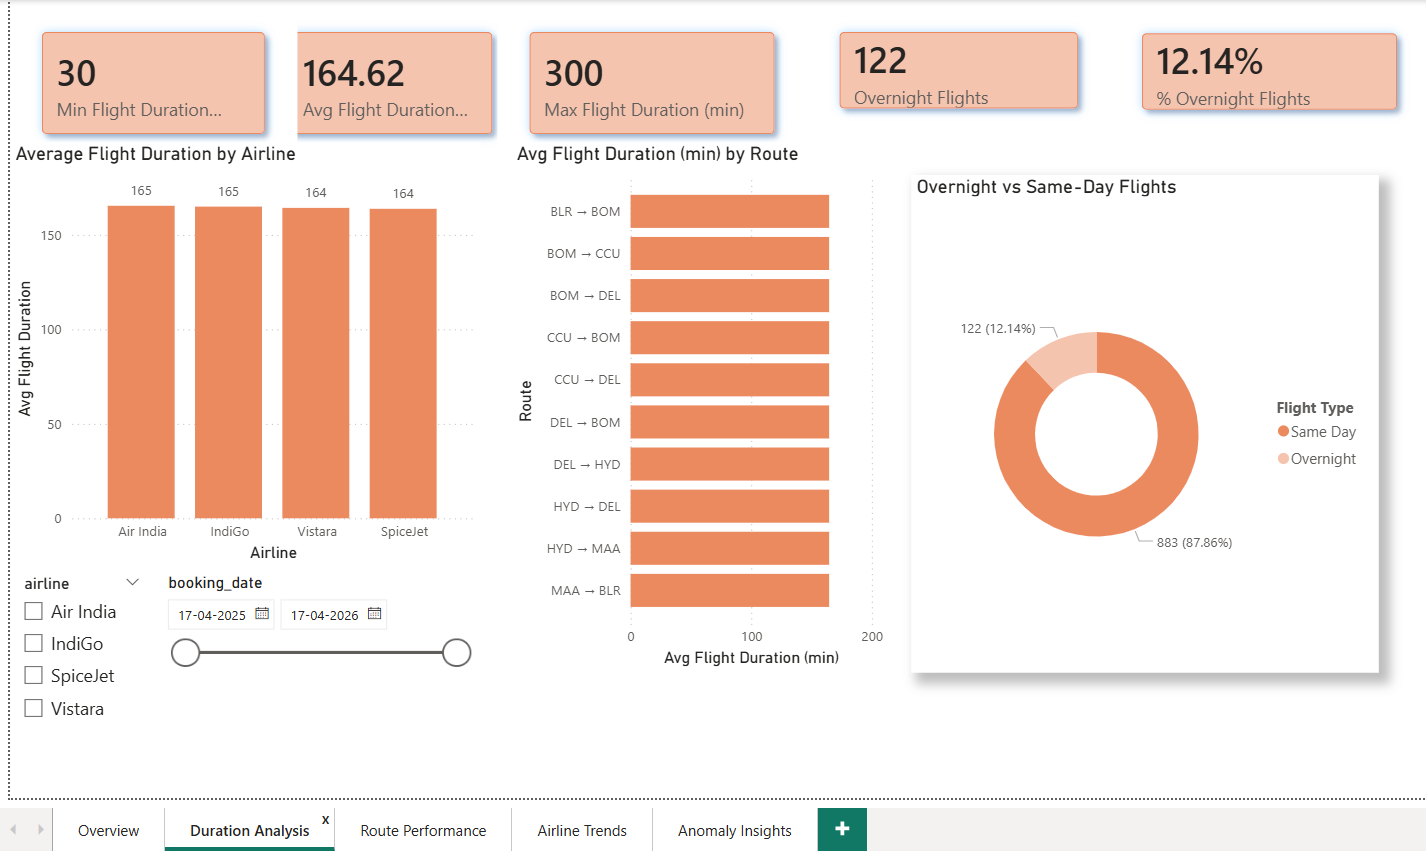

What the dashboard file says about the page in this screenshot:
{"tool":"powerbi","page":{"name":"Duration Analysis","canvas":[1280,720],"ordinal":1},"visuals":[{"type":"cardVisual","fields":{"Data":["airlines_dw flights.Avg Flight Duration (min)"]},"box":[222.3,0,242.9,150.9],"z":0},{"type":"cardVisual","fields":{"Data":["airlines_dw flights.Min Flight Duration (min)"]},"box":[0,0,259.3,150.9],"z":1},{"type":"cardVisual","fields":{"Data":["airlines_dw flights.Max Flight Duration (min)"]},"box":[439.1,0,279.9,150.9],"z":2},{"type":"cardVisual","fields":{"Data":["airlines_dw flights.Overnight Flights"]},"box":[719,0,273.1,127.6],"z":3},{"type":"cardVisual","fields":{"Data":["airlines_dw flights.% Overnight Flights"]},"box":[992.1,1.4,288.2,127.6],"z":4},{"type":"clusteredColumnChart","title":"Average Flight Duration by Airline","fields":{"Y":["airlines_dw flights.Avg Flight Duration (min)"],"Category":["airlines_dw flights.airline"]},"box":[0,129,424,382.8],"z":5},{"type":"clusteredBarChart","fields":{"Y":["airlines_dw flights.Avg Flight Duration (min)"],"Category":["airlines_dw valid_booking_flights.Route"]},"box":[451.5,129,340.3,477.5],"z":6},{"type":"donutChart","title":"Overnight vs Same-Day Flights","fields":{"Category":["airlines_dw flights.Flight Type"],"Y":["CountNonNull(airlines_dw flights.flight_key)"]},"box":[812.4,157.8,421.3,448.7],"z":7},{"type":"slicer","fields":{"Values":["airlines_dw valid_booking_flights.airline"]},"box":[0,512.4,129.6,207.9],"z":8},{"type":"slicer","fields":{"Values":["airlines_dw bookings.booking_date"]},"box":[130,512,294,208],"z":9}]}

Visuals, with their boxes on the page's 1280x720 design canvas (x1, y1, x2, y2). These are canvas units, not pixel positions in the 1426x851 screenshot, which may show the page scaled, cropped or inside an application window:
cardVisual - airlines_dw flights.Avg Flight Duration (min): l=222, t=0, r=465, b=151
cardVisual - airlines_dw flights.Min Flight Duration (min): l=0, t=0, r=259, b=151
cardVisual - airlines_dw flights.Max Flight Duration (min): l=439, t=0, r=719, b=151
cardVisual - airlines_dw flights.Overnight Flights: l=719, t=0, r=992, b=128
cardVisual - airlines_dw flights.% Overnight Flights: l=992, t=1, r=1280, b=129
"Average Flight Duration by Airline" clusteredColumnChart: l=0, t=129, r=424, b=512
clusteredBarChart - airlines_dw flights.Avg Flight Duration (min) x airlines_dw valid_booking_flights.Route: l=452, t=129, r=792, b=606
"Overnight vs Same-Day Flights" donutChart: l=812, t=158, r=1234, b=606
slicer - airlines_dw valid_booking_flights.airline: l=0, t=512, r=130, b=720
slicer - airlines_dw bookings.booking_date: l=130, t=512, r=424, b=720
